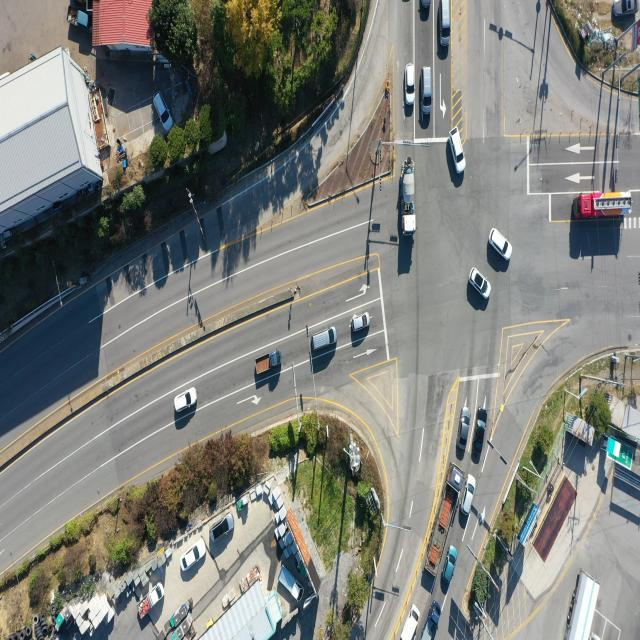car: (181, 538, 207, 573), (398, 602, 421, 640), (152, 94, 172, 135), (488, 229, 511, 263), (448, 126, 464, 174), (474, 407, 488, 459), (311, 325, 337, 352), (469, 267, 490, 300), (212, 517, 234, 546), (461, 474, 476, 516), (422, 64, 434, 112), (610, 0, 640, 18), (175, 388, 197, 412), (458, 408, 470, 452), (444, 545, 458, 582), (407, 66, 418, 107), (442, 0, 452, 45), (350, 313, 370, 332), (421, 0, 432, 15)
medium_truck: (426, 462, 467, 578), (564, 568, 600, 638), (578, 194, 634, 218), (403, 166, 419, 237)
small_truck: (141, 580, 168, 617), (278, 566, 304, 600), (255, 348, 283, 376), (423, 602, 443, 640), (66, 10, 91, 27)
